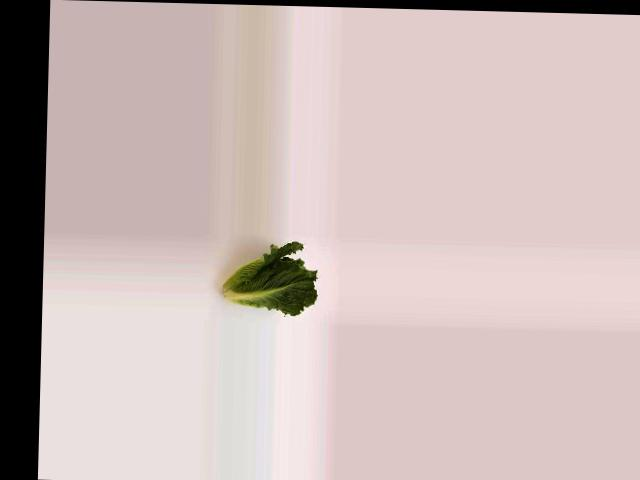lettuce: (210, 243, 321, 318)
